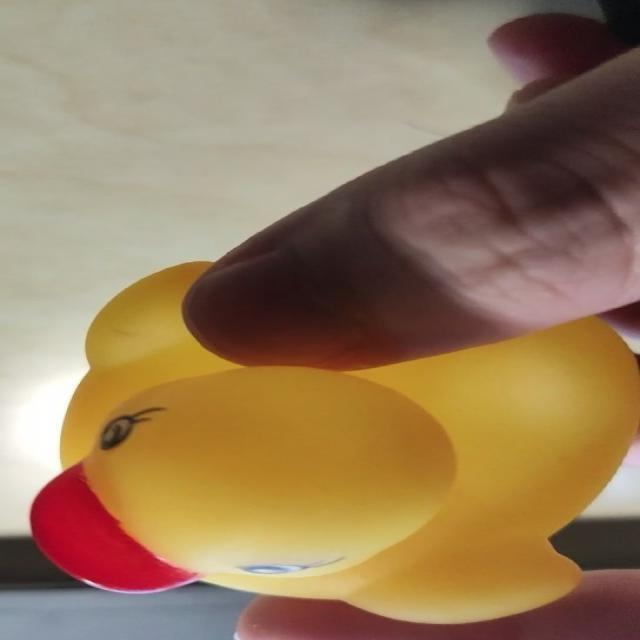rubber-duck: (31, 261, 638, 621)
